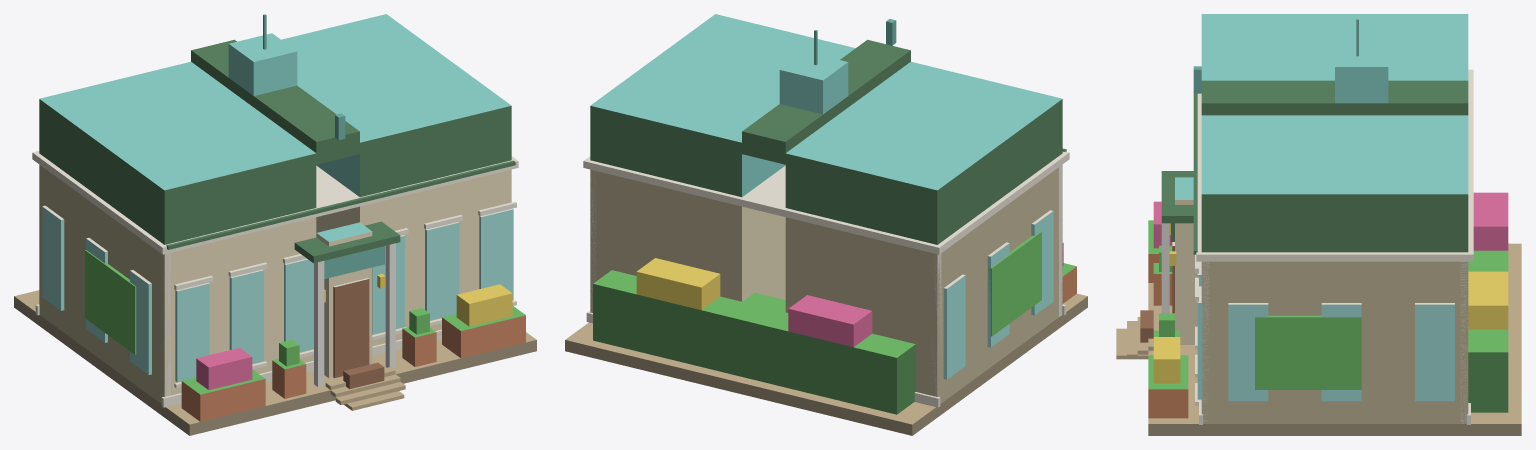
Rendered from GardenSociety.fbx.
3 views of the same model, side by side, from view 1: azimuth 30°, elevation 25°; view 2: azimuth 150°, elevation 25°; view 3: azimuth 270°, elevation 25° (orthographic). The views are drawn at different scales.
Parts seen in each view (by area): view 1: GardenSociety; view 2: GardenSociety; view 3: GardenSociety.
Part boxes in pixels (x1,y1,x2,y2): GardenSociety: (14,14,536,435); GardenSociety: (565,14,1087,435); GardenSociety: (1116,14,1521,435).
Bounding box in the file's own units: 1640 × 1350 × 1520.
